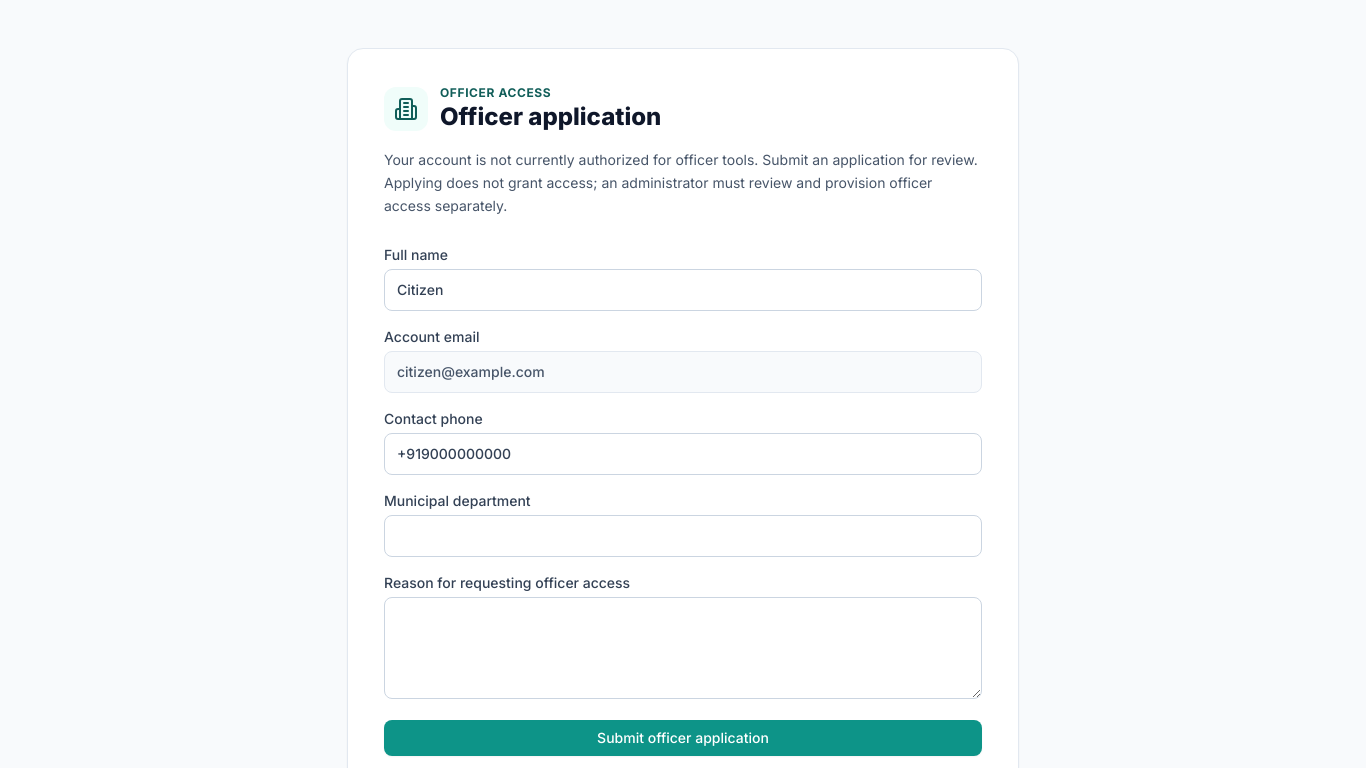
Scenario: OfficerApplicationPage › submits a new application under the authenticated account
Replace the text in the field labelled "Full name" with "Applicant Name". click: point(683, 290)
box: [384, 269, 982, 311]
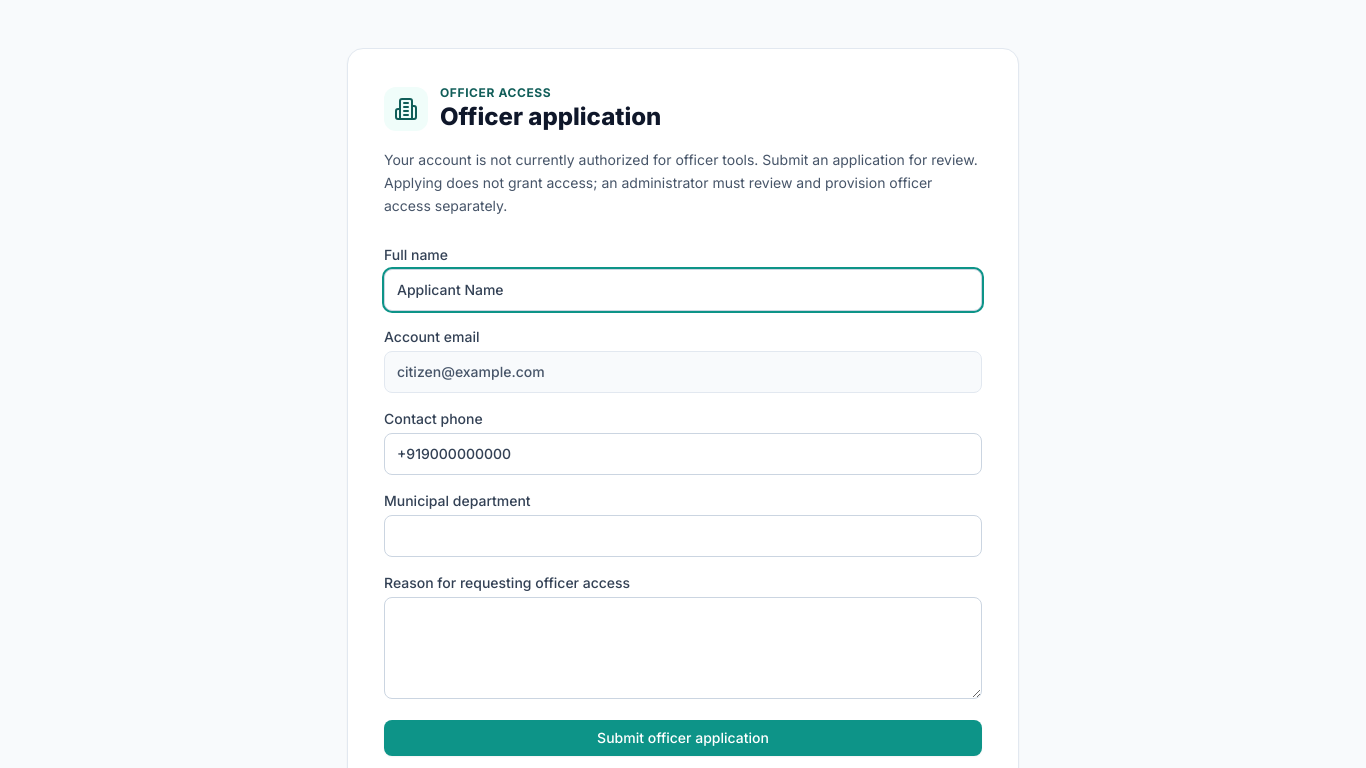
Type "Roads" into the field labelled "Municipal department". click: point(683, 536)
box: [384, 515, 982, 557]
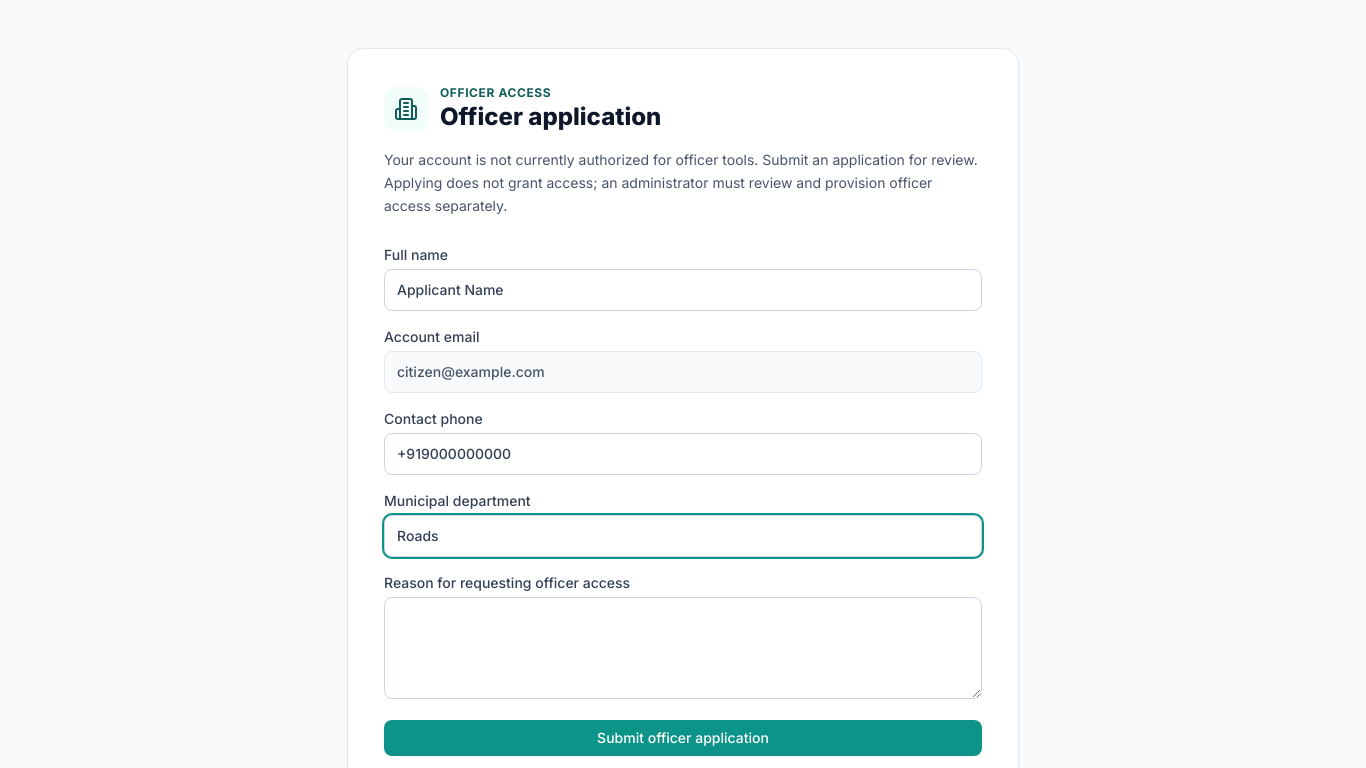
Type "Requesting access for assigned municipal duties." into the text box labelled "Reason for requesting officer access". click: point(683, 648)
box: [384, 597, 982, 699]
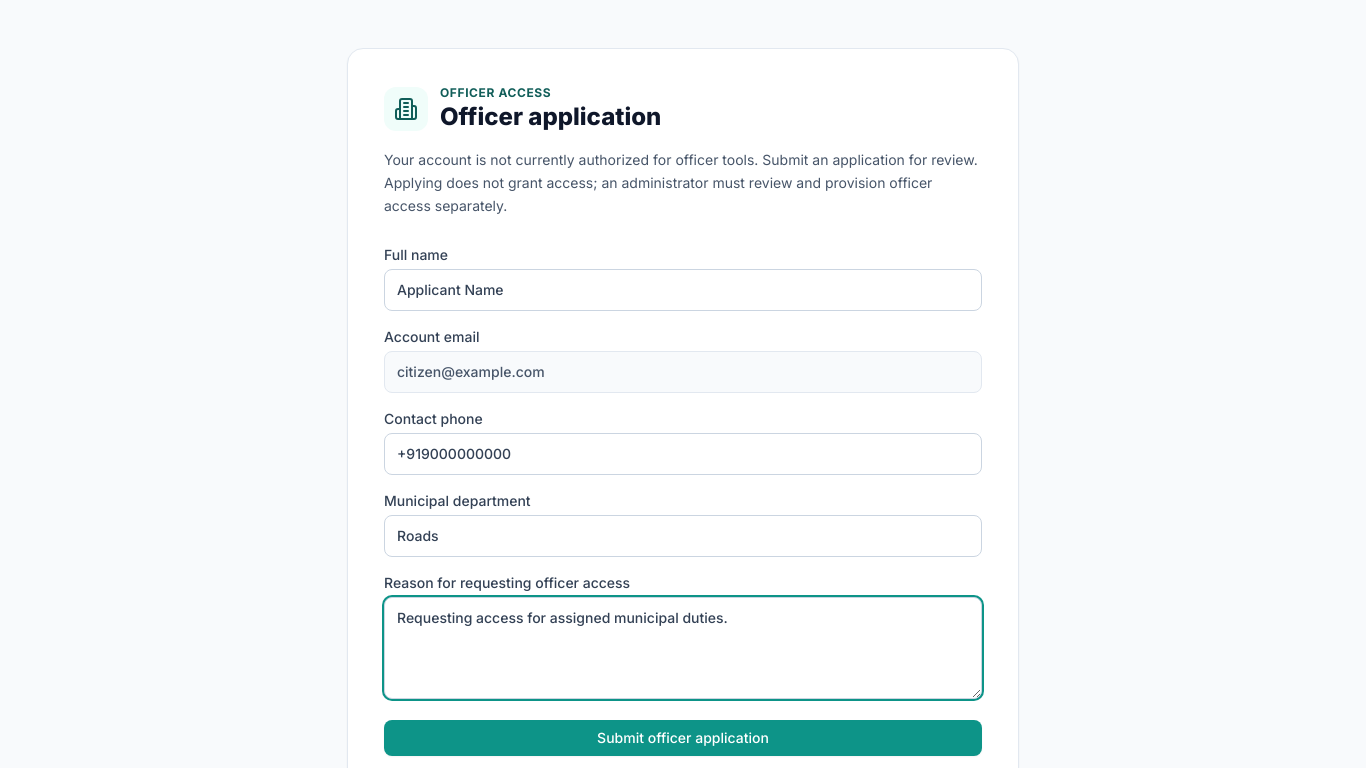
Click the button "Submit officer application". click: point(683, 738)
box: [384, 720, 982, 756]
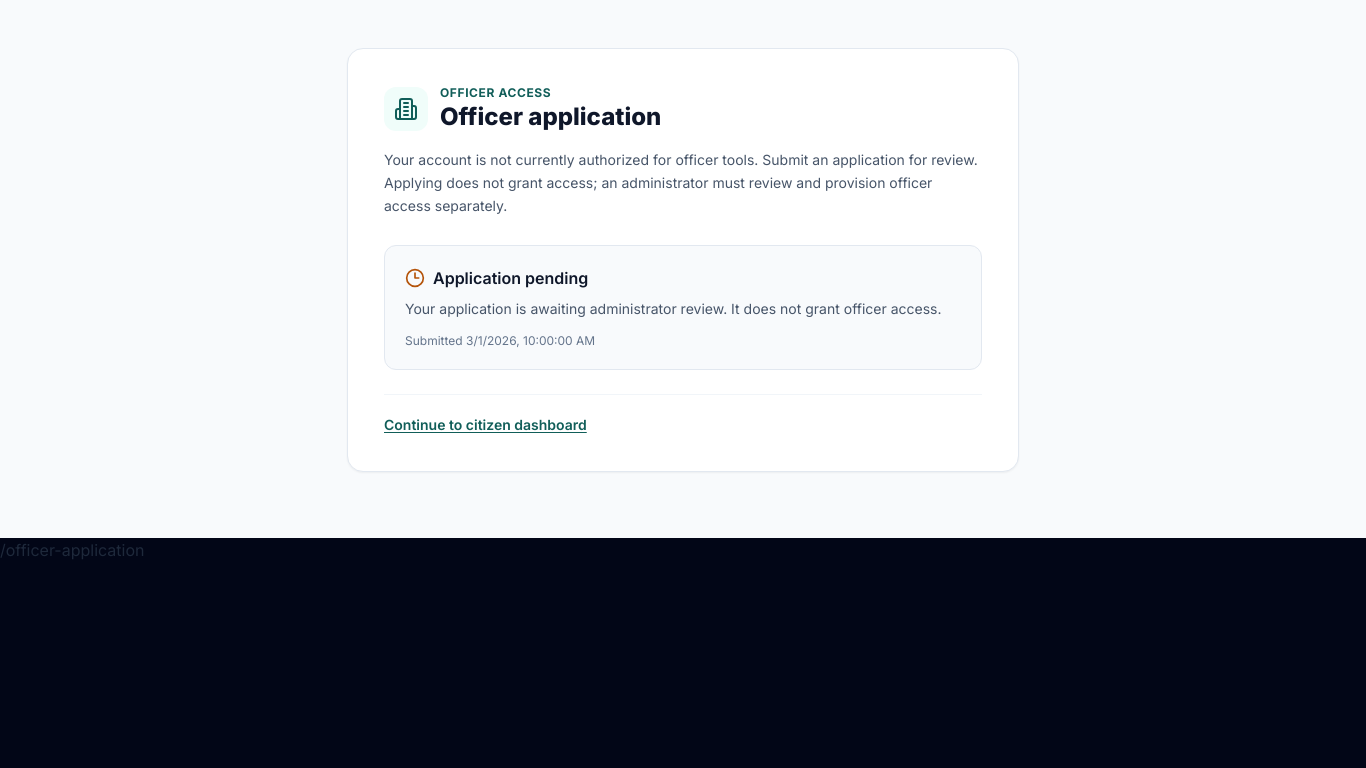
Expected: the text "Application pending" is shown, [405, 268, 588, 288]
